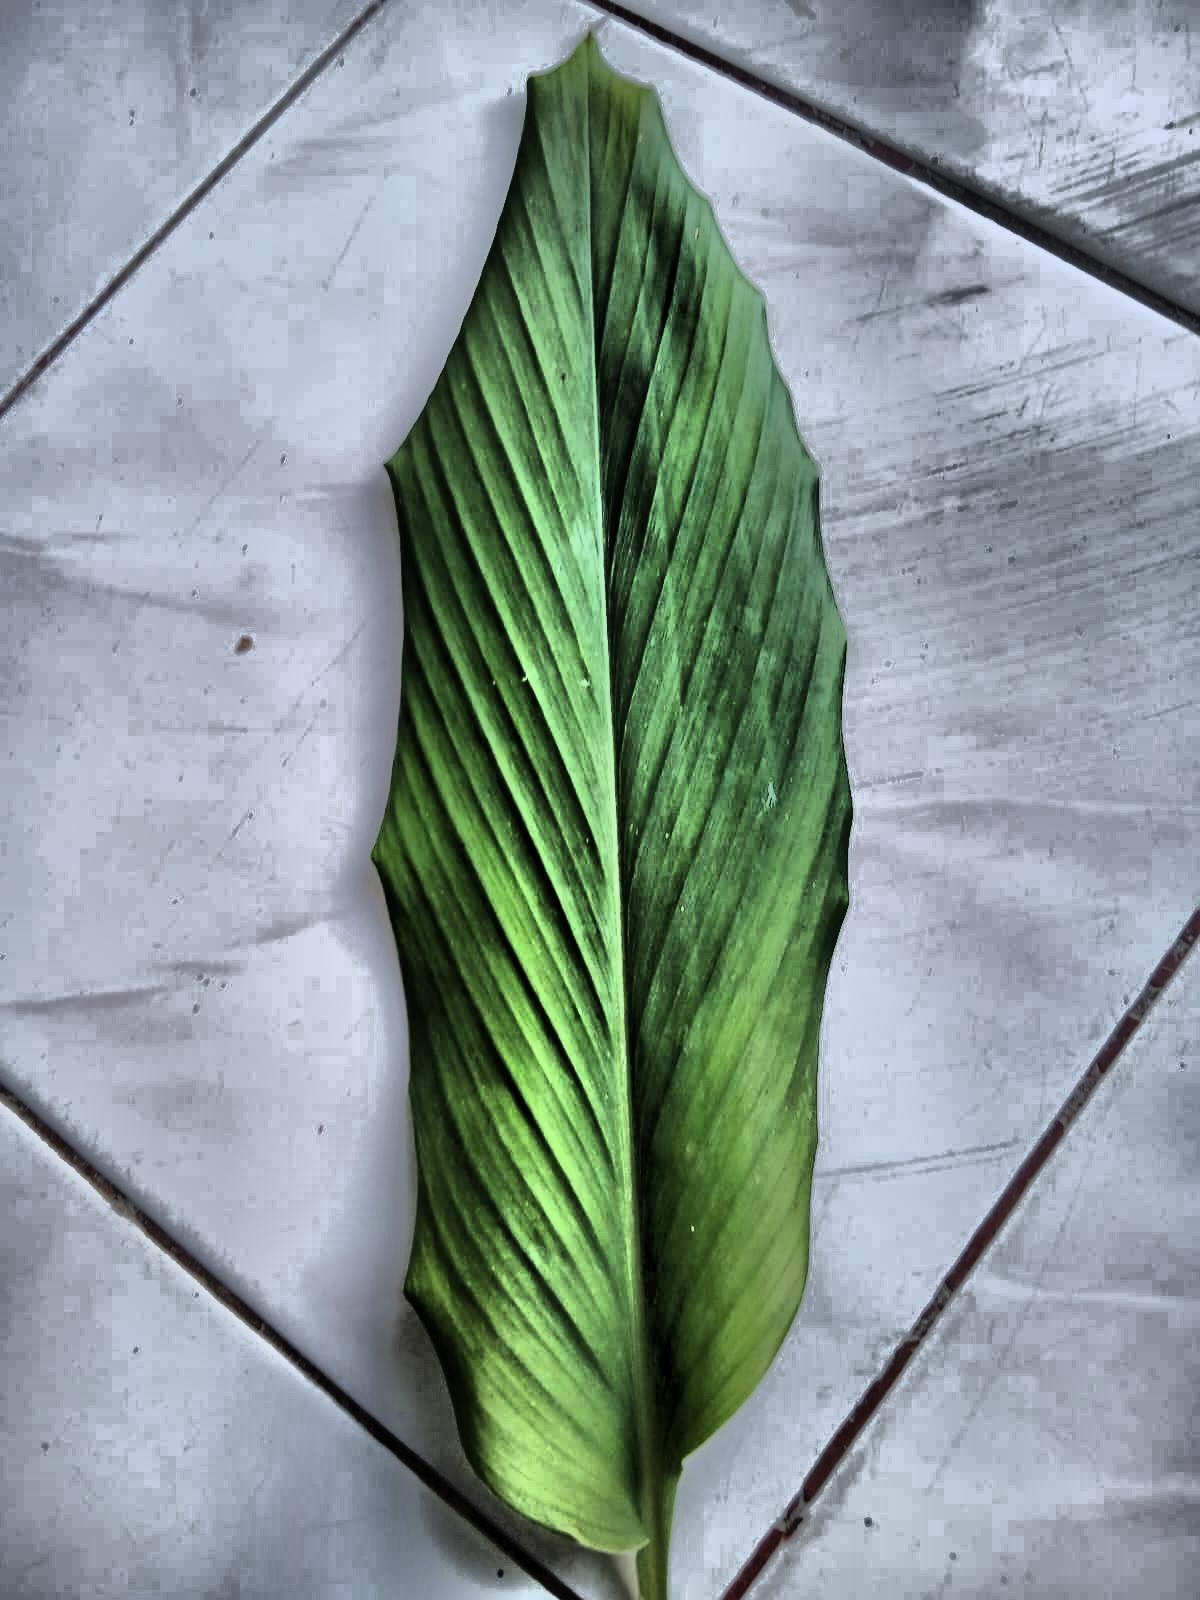daun kunyit: (373, 37, 851, 1599)
